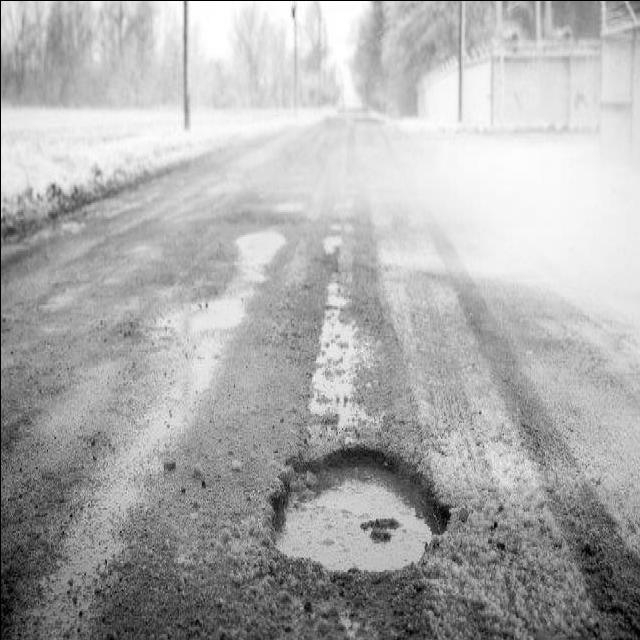lubang: (263, 436, 457, 578)
